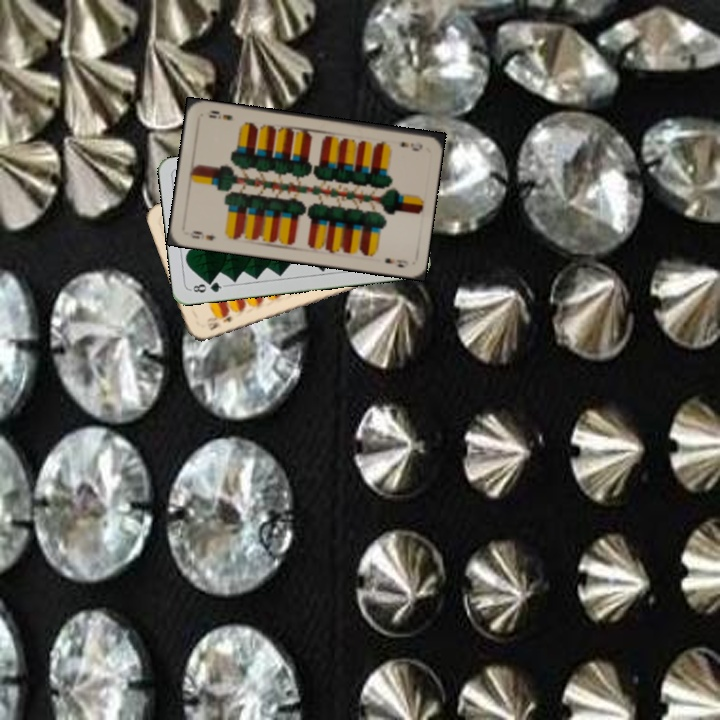E10: (203, 310, 234, 333)
E9: (187, 227, 218, 243), (397, 137, 425, 153)
G8: (187, 277, 227, 295)
